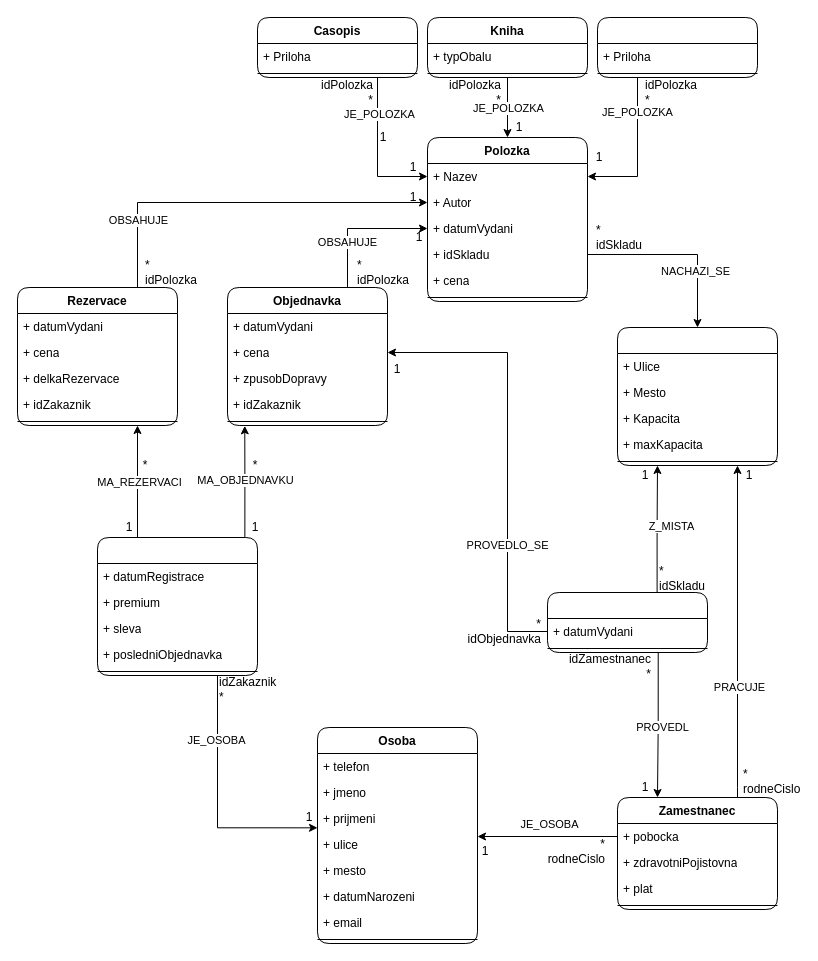
The diagram is 818 pixels wide and 961 high, and some of its shapes have lost their labels. The box of each missing label's shape, as (x1, y1, x2, y2) in pixels:
Noviny: (596, 16, 758, 78)
Sklad: (616, 326, 778, 466)
Vydej: (546, 592, 708, 652)
Zakaznik: (96, 536, 258, 676)
